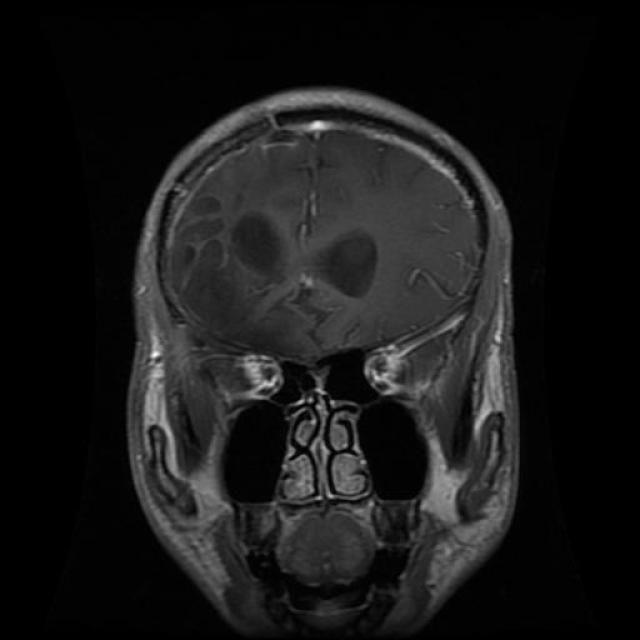glioma: (229, 210, 385, 304)
